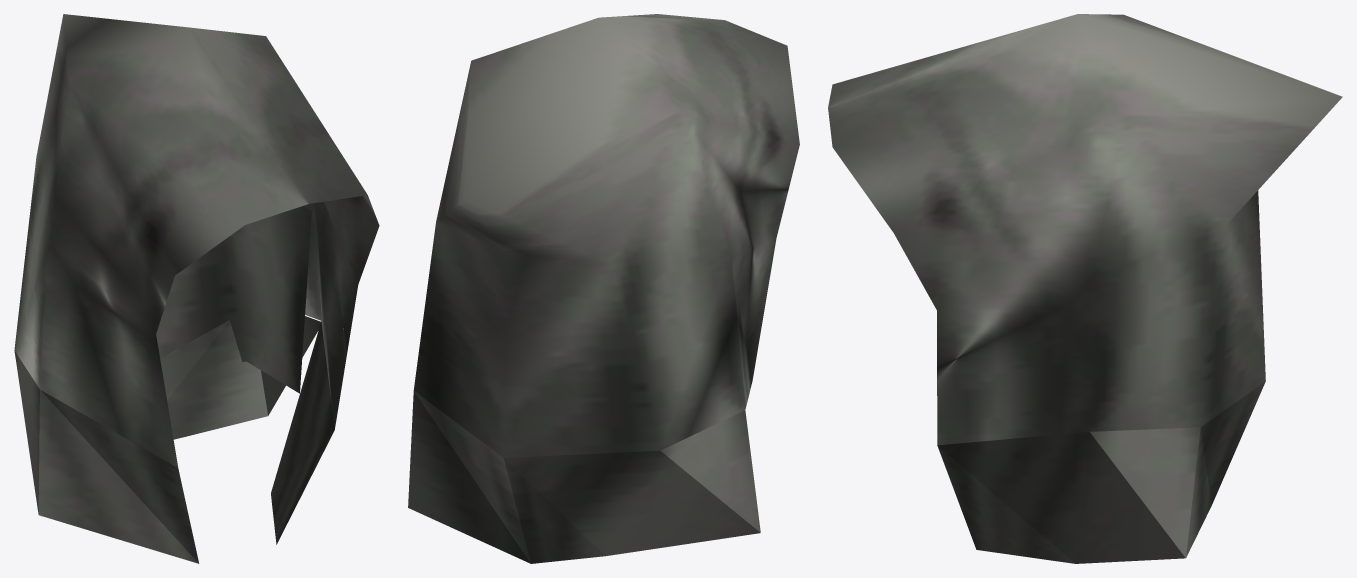
The model's file is hood_white.glb.
3 renders of one model, left to right at view 1: azimuth 30°, elevation 25°; view 2: azimuth 150°, elevation 25°; view 3: azimuth 270°, elevation 25°, orthographic. The views are drawn at different scales.
Parts seen in each view (by area): view 1: Hood; view 2: Hood; view 3: Hood.
Boxes of the visible parts, x1,y1,x2,y2 form: Hood: (14, 14, 379, 563); Hood: (408, 14, 799, 563); Hood: (828, 14, 1342, 563).
Size of the model in its own units: 0.2514 by 0.4081 by 0.369.
1 material, 1 textured.
